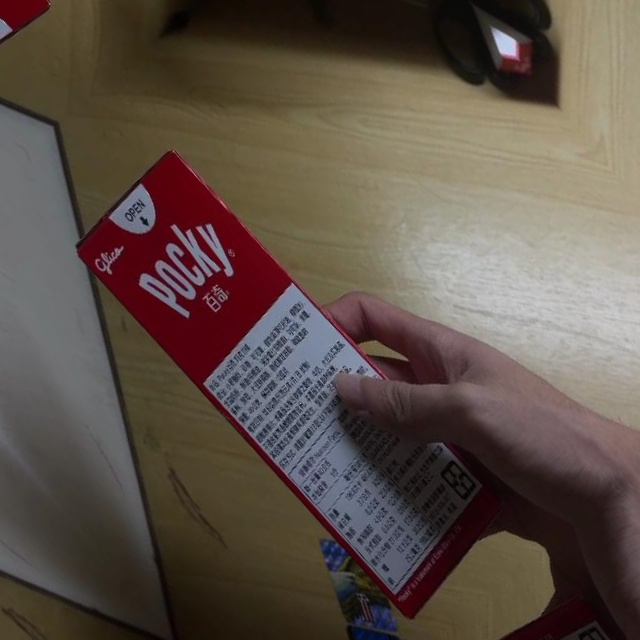Pocky: (60, 126, 529, 637)
